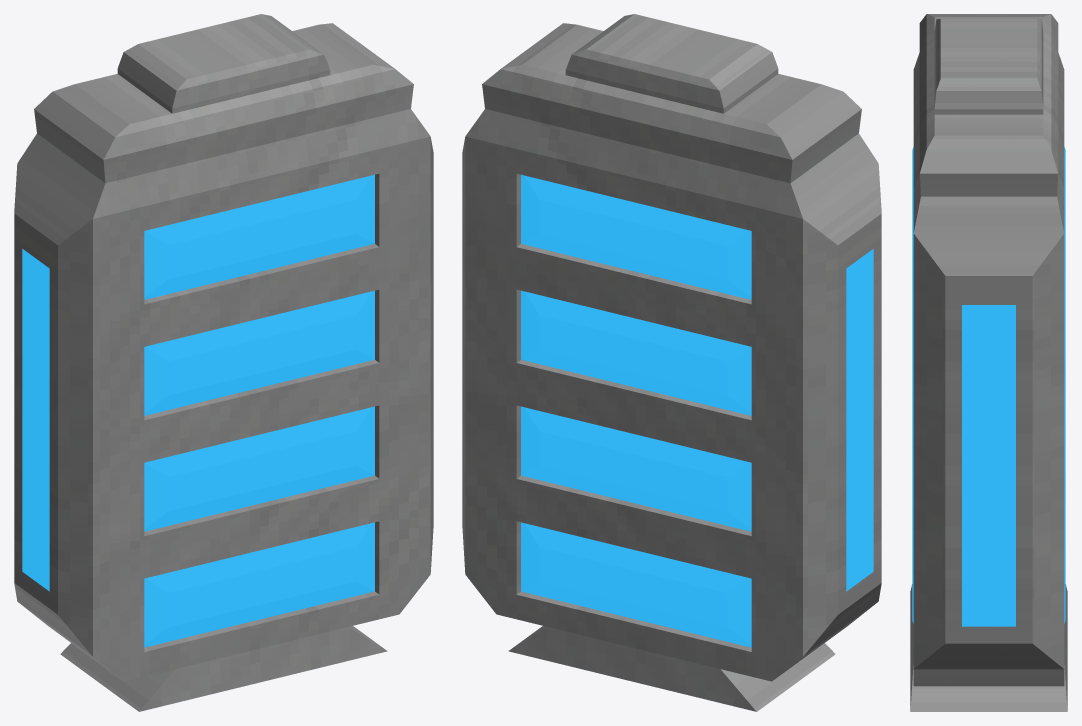
The model's file is health_big.glb.
3 views of the same model, side by side, from view 1: azimuth 30°, elevation 25°; view 2: azimuth 150°, elevation 25°; view 3: azimuth 270°, elevation 25° (orthographic).
Parts seen in each view (by area): view 1: health big; view 2: health big; view 3: health big.
Boxes of the visible parts, bbox=[...] form: health big: bbox=[14, 14, 433, 711]; health big: bbox=[462, 14, 881, 711]; health big: bbox=[910, 14, 1067, 711].
Bounding box in the file's own units: 3.75 × 5.78 × 1.36.
2 materials, 1 textured.
